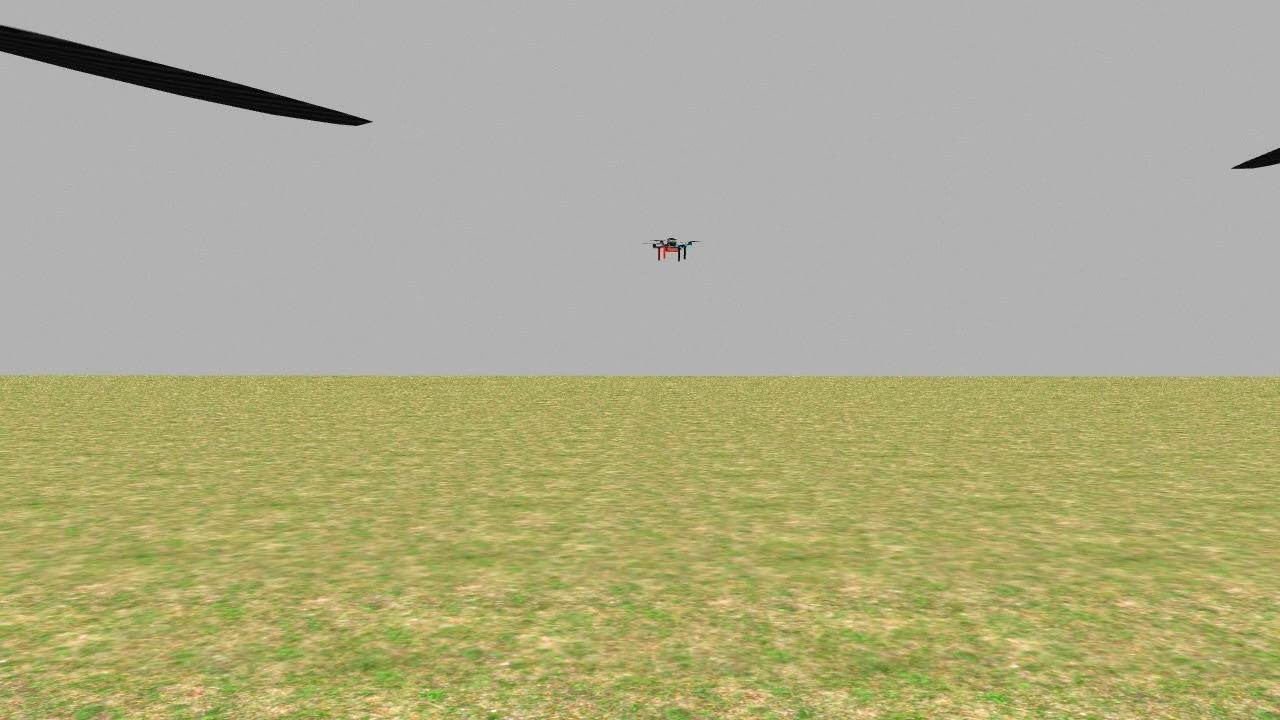UAV: (636, 224, 711, 274)
